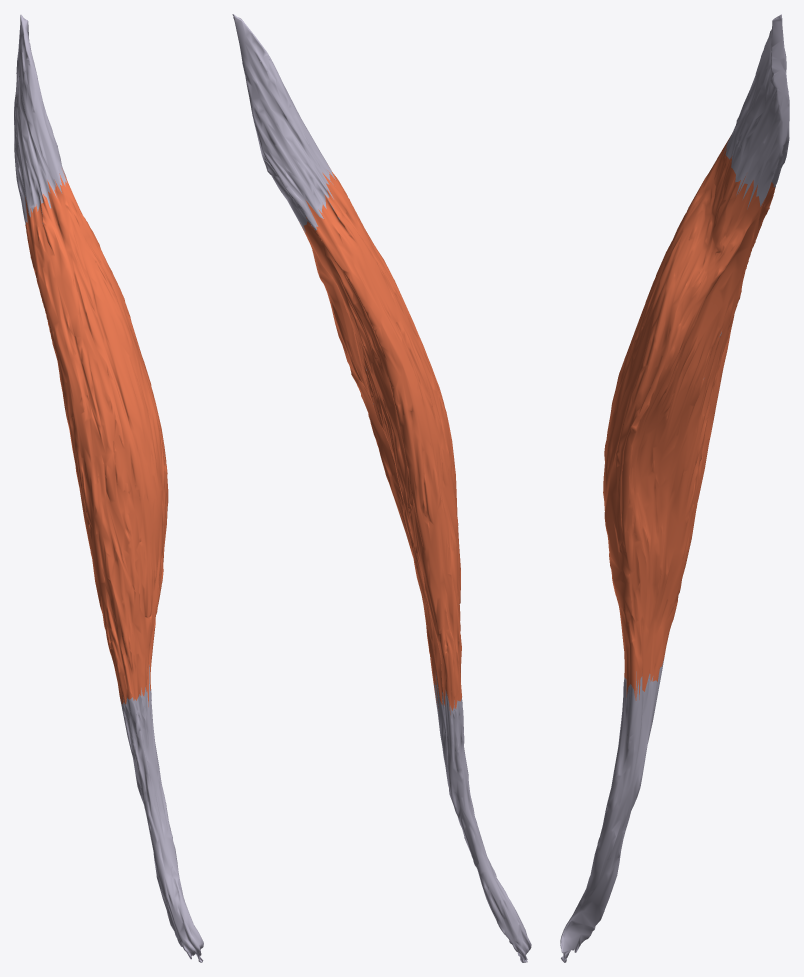
The model's file is Brachioradialis_muscle.r_Generated_Mesh_From_X3D.1000.glb.
The picture shows the model from 3 angles, left to right: view 1: azimuth 90°, elevation 25°; view 2: azimuth 150°, elevation 25°; view 3: azimuth 270°, elevation 25°; orthographic projection. The views are drawn at different scales.
Parts seen in each view (by area): view 1: Brachioradialis_muscle.r_Generated_Mesh_From_X3D.1000; view 2: Brachioradialis_muscle.r_Generated_Mesh_From_X3D.1000; view 3: Brachioradialis_muscle.r_Generated_Mesh_From_X3D.1000.
Part boxes in pixels (x1,y1,x2,y2): Brachioradialis_muscle.r_Generated_Mesh_From_X3D.1000: [14, 14, 203, 962]; Brachioradialis_muscle.r_Generated_Mesh_From_X3D.1000: [232, 14, 531, 962]; Brachioradialis_muscle.r_Generated_Mesh_From_X3D.1000: [560, 14, 789, 962].
Bounding box in the file's own units: 0.0748 × 0.3491 × 0.0693.
